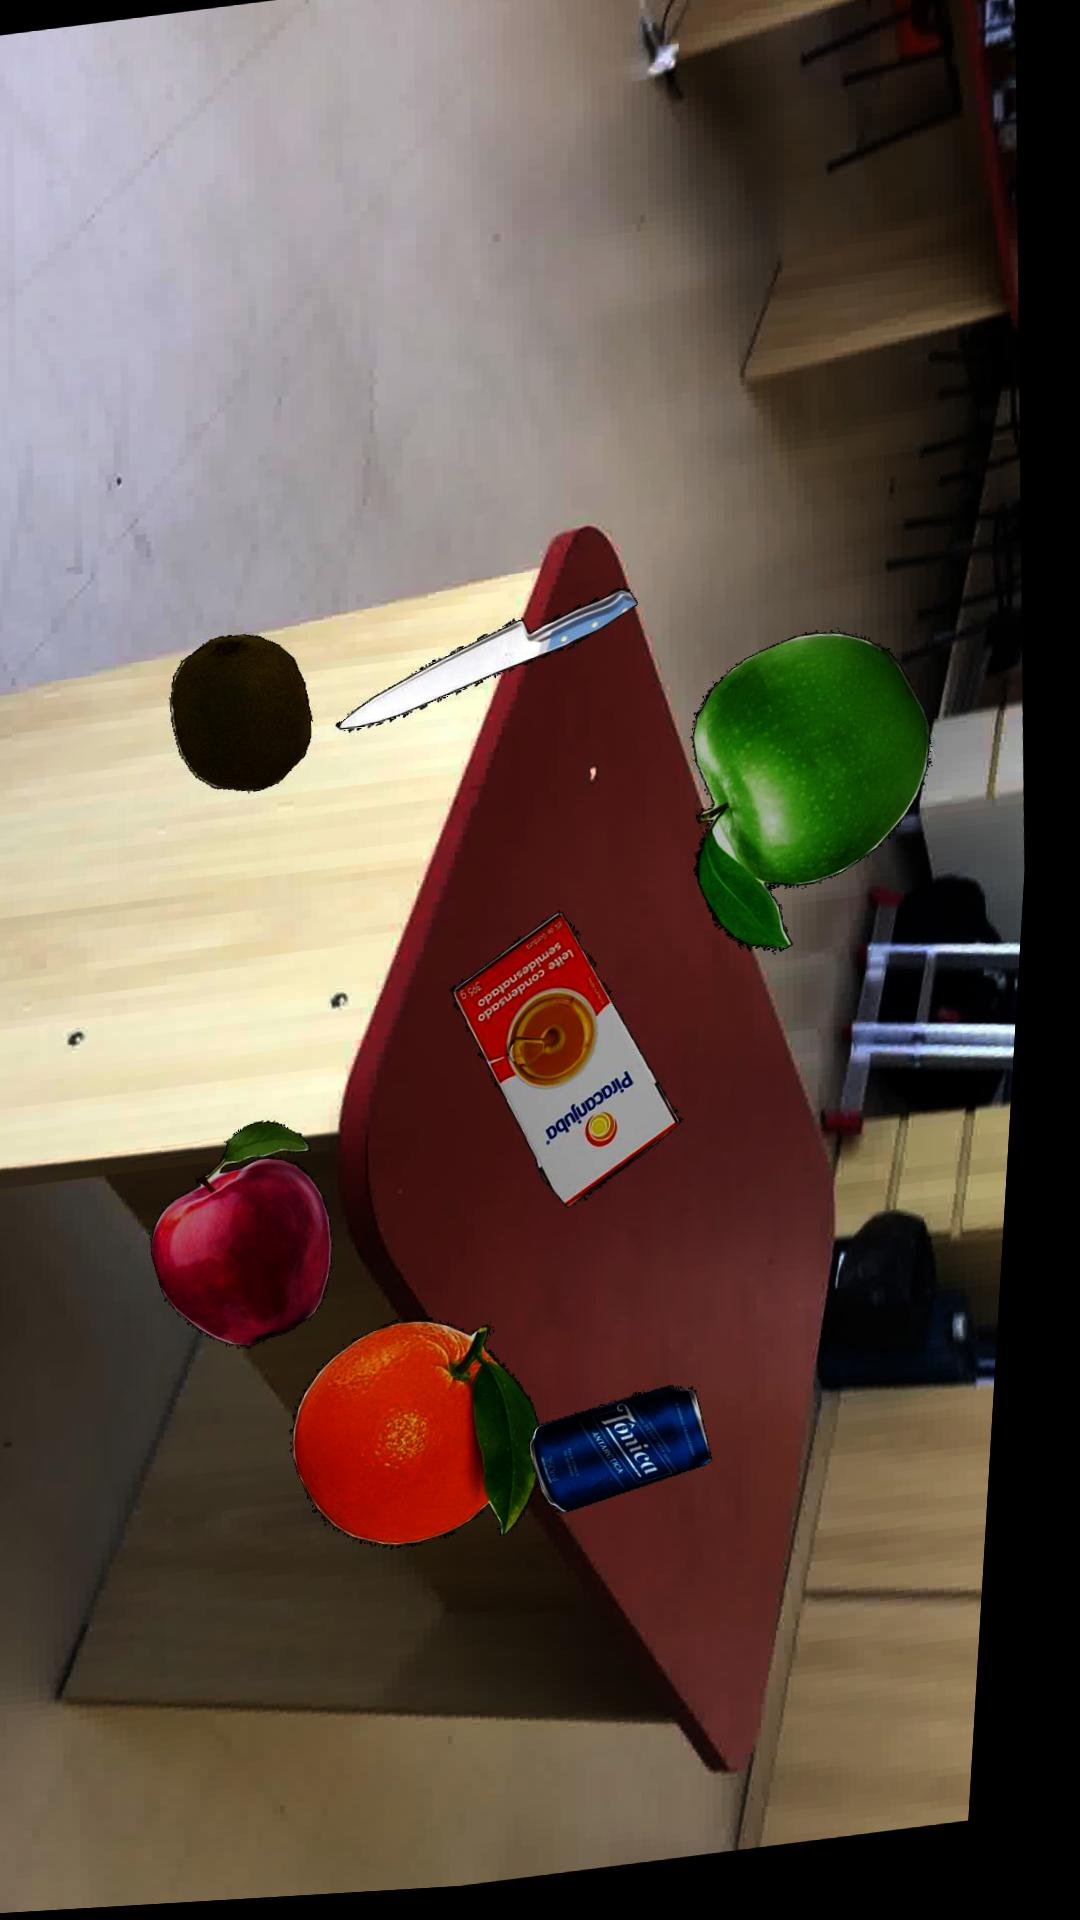apple: (165, 1124, 347, 1349)
green apple: (700, 641, 939, 961)
kiwi: (177, 637, 319, 794)
knife: (343, 596, 644, 733)
orange: (306, 1324, 555, 1555)
tonic: (546, 1394, 729, 1519)
